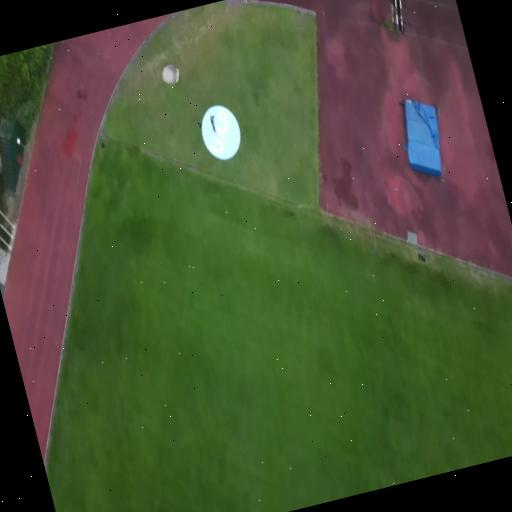UAP: (200, 105, 241, 160)
person: (211, 115, 216, 131)
